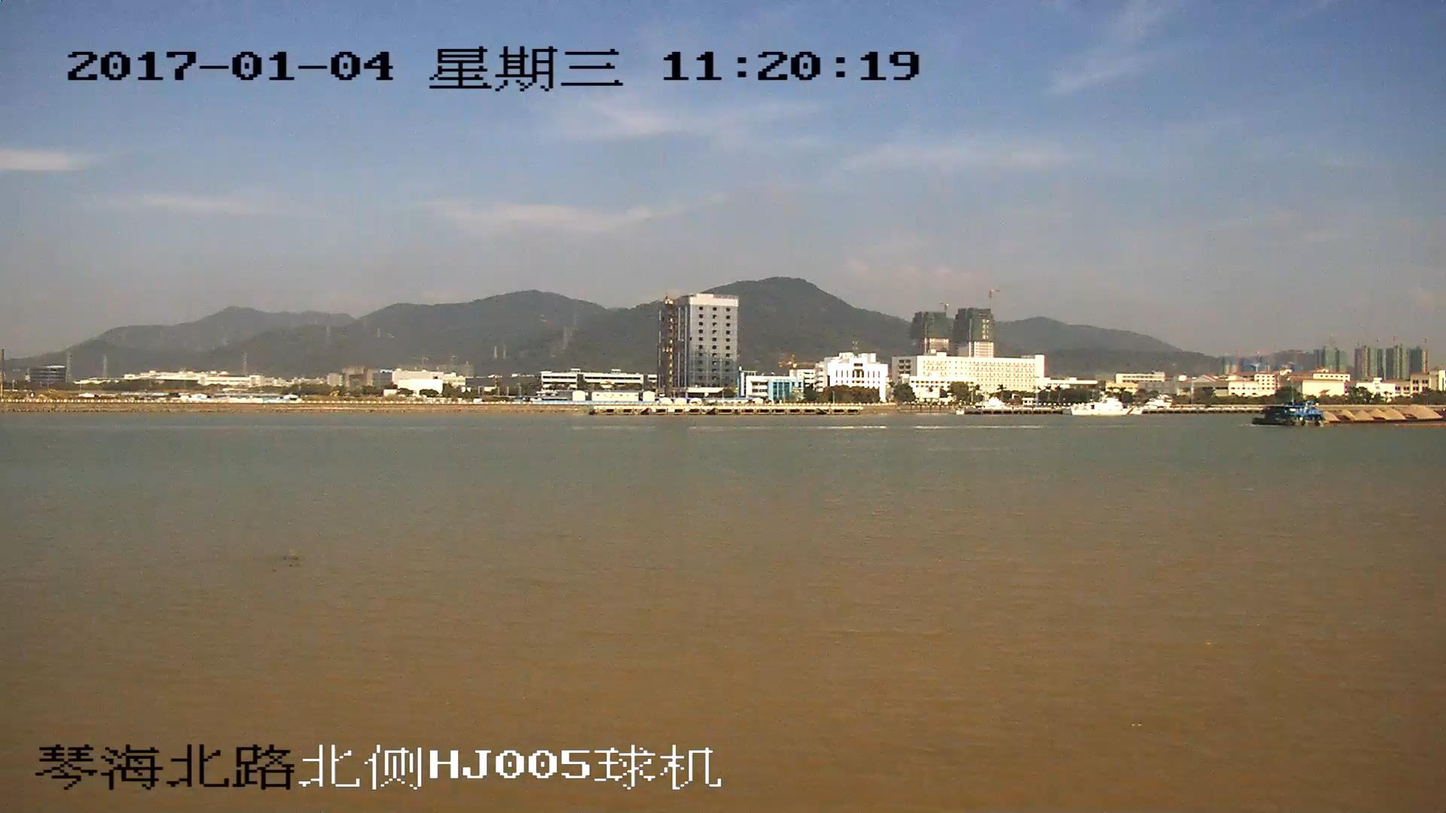ore carrier: (1254, 403, 1445, 429)
